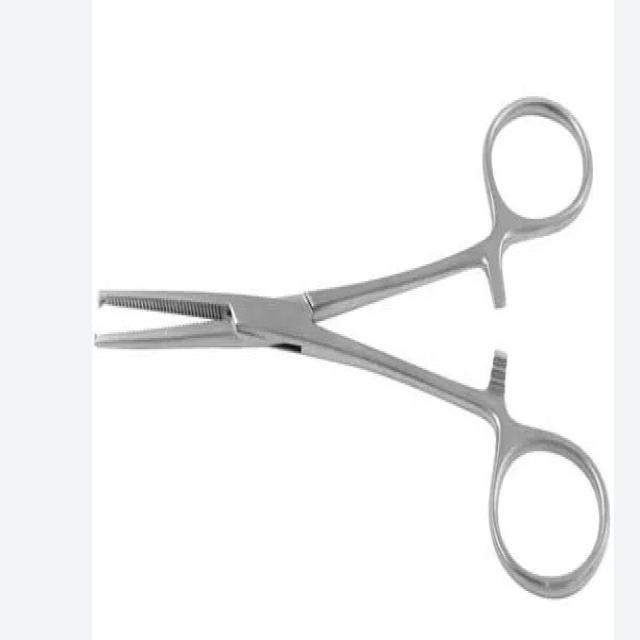Kocher Forceps: (95, 96, 611, 600)
